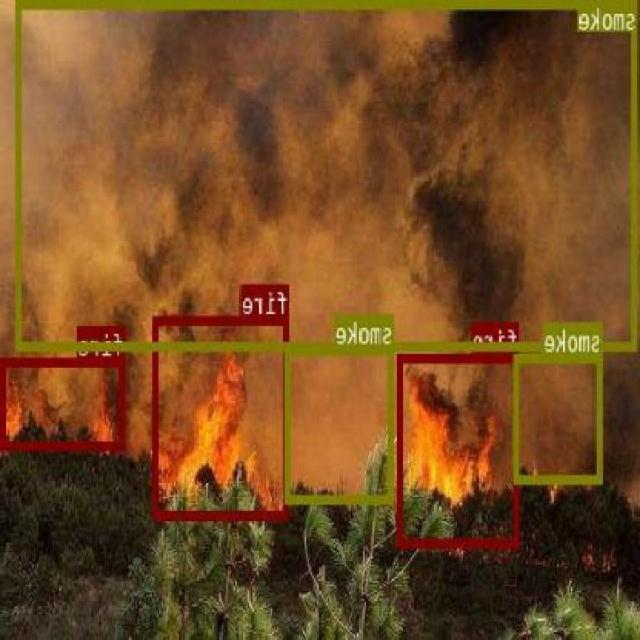Fire: (121, 348, 296, 508), (384, 350, 504, 525), (0, 345, 133, 470)
Smoke: (0, 0, 637, 508)
